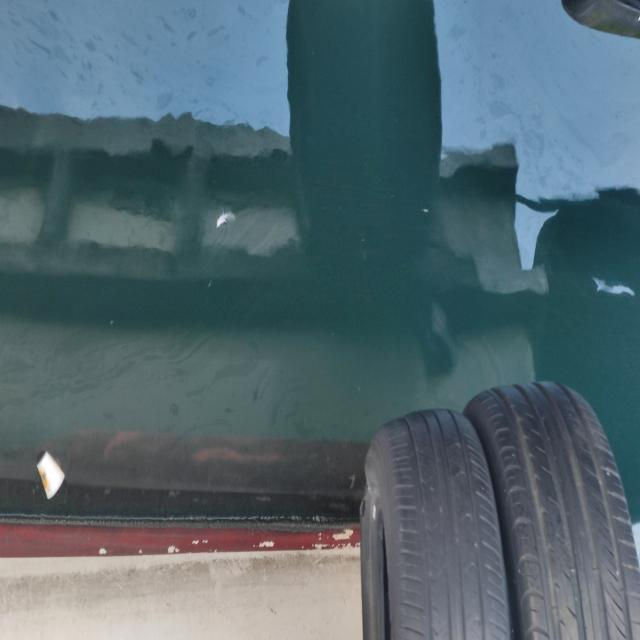Plastic cup: (35, 447, 67, 504)
